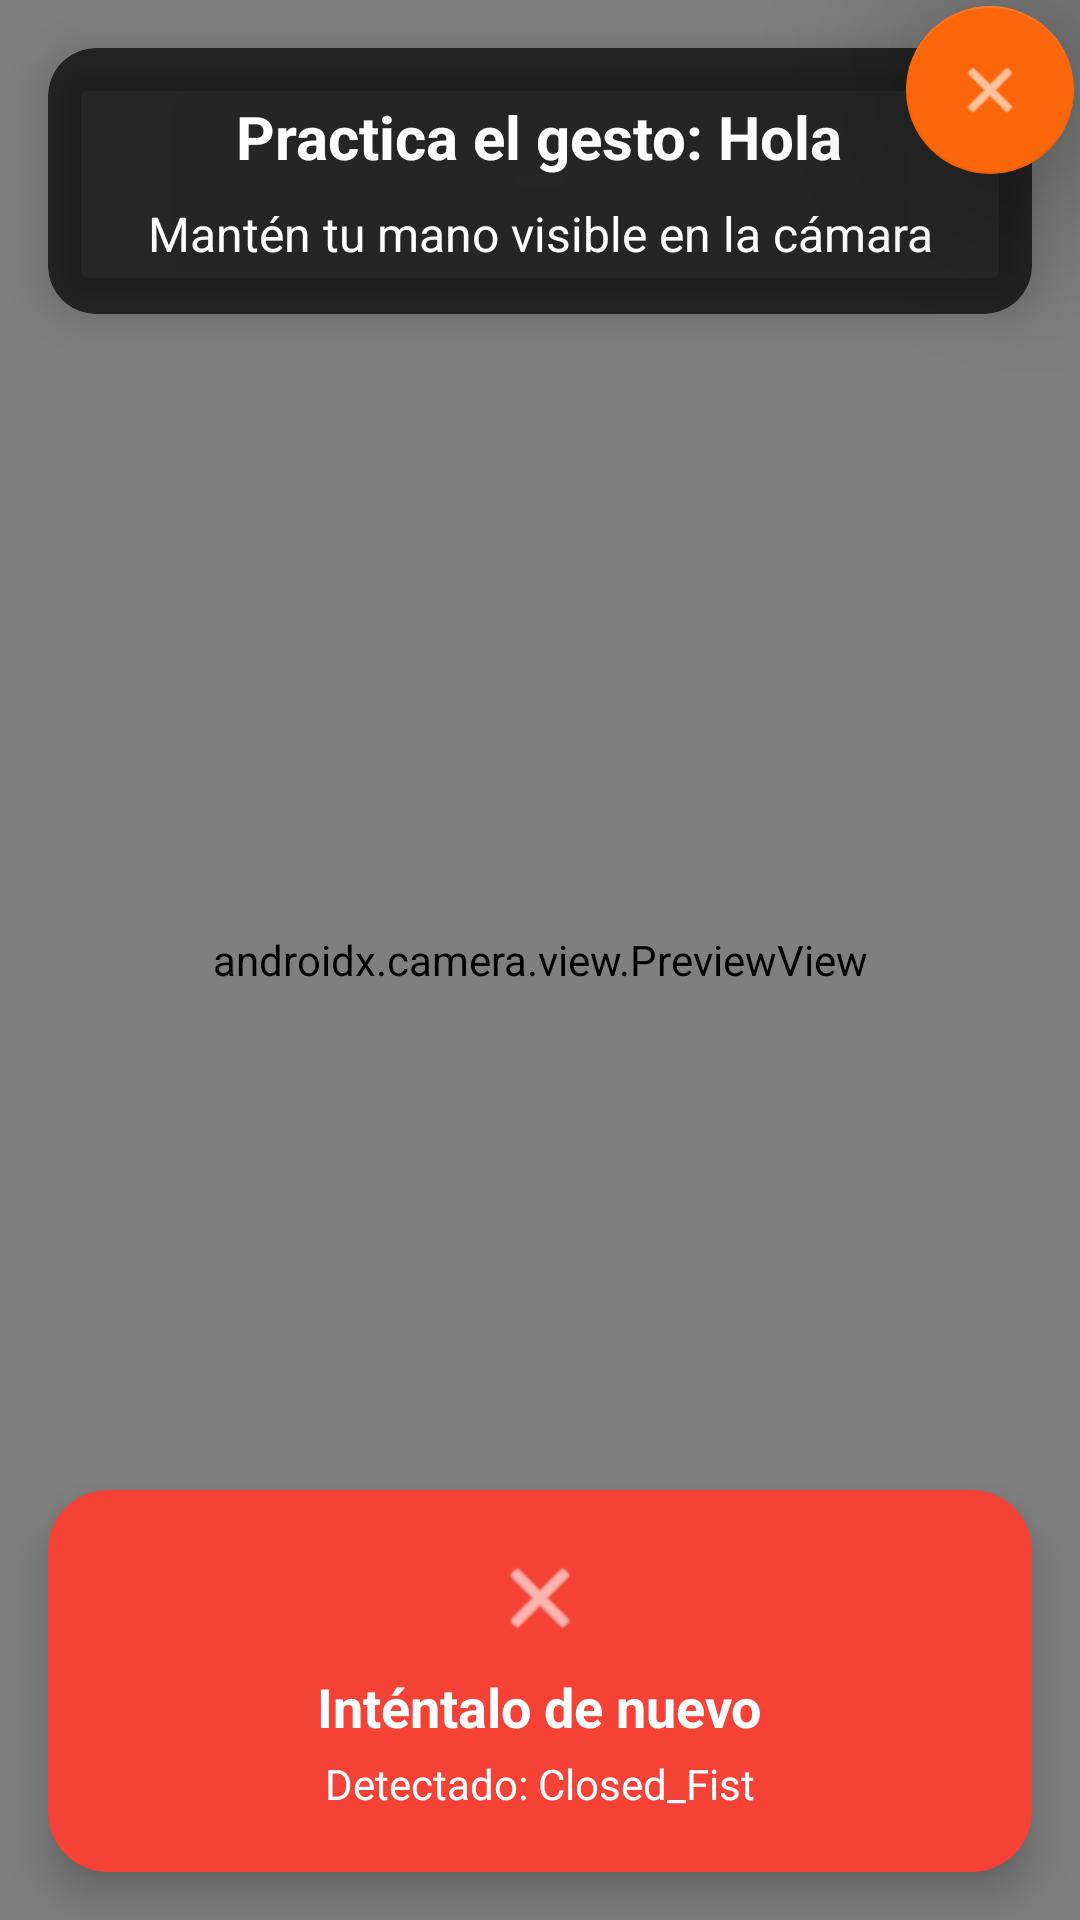

Named icons in this screenshot (1080px x 1920px) and their bounding boxes, (x1=x1, y1=y1, x2=x2, y2=y2):
Cerrar cámara: (x1=906, y1=6, x2=1074, y2=174)
close clear cancel: (x1=510, y1=1568, x2=570, y2=1628)
